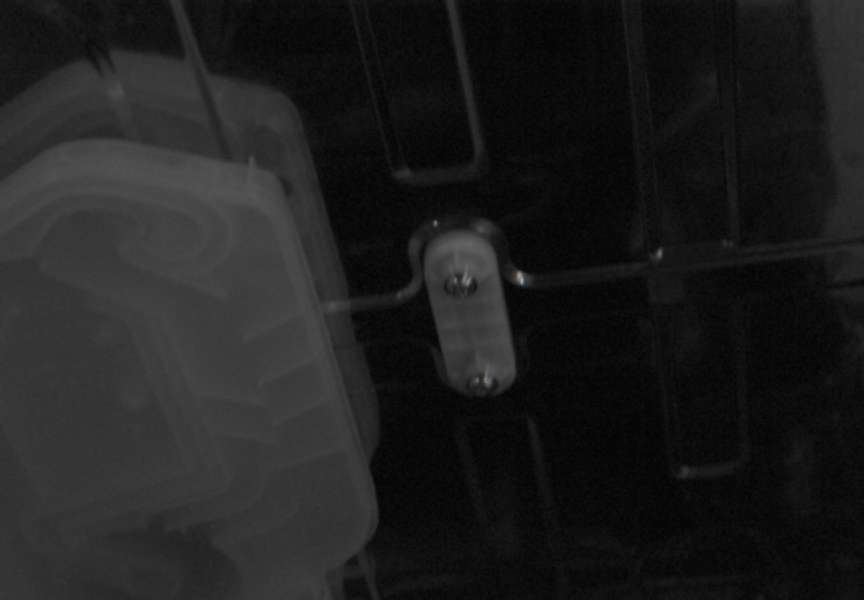screw: (444, 272, 478, 298), (466, 372, 498, 397)
